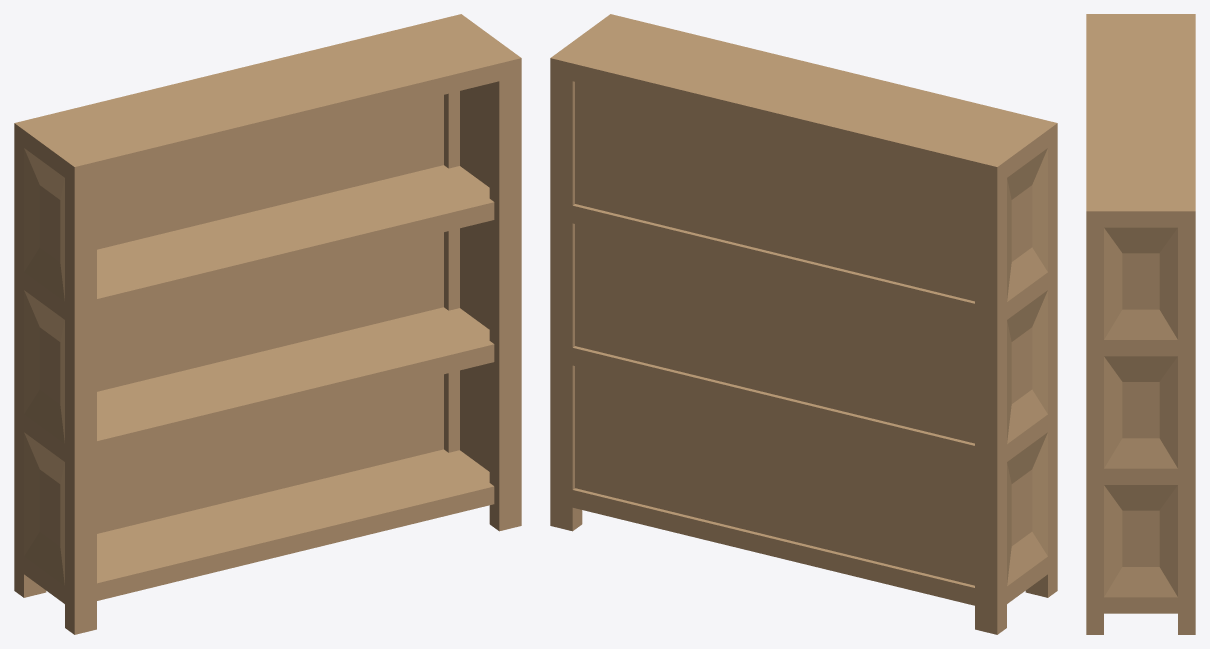
Rendered from bookcase-wide.glb.
The picture shows the model from 3 angles, left to right: view 1: azimuth 30°, elevation 25°; view 2: azimuth 150°, elevation 25°; view 3: azimuth 270°, elevation 25°; orthographic projection. The views are drawn at different scales.
Visible parts, largest first — view 1: bookcase-wide; view 2: bookcase-wide; view 3: bookcase-wide.
Part boxes in pixels (bbox=[...]): bookcase-wide: bbox=[14, 14, 521, 634]; bookcase-wide: bbox=[550, 14, 1057, 634]; bookcase-wide: bbox=[1086, 14, 1195, 634].
Bounding box in the file's own units: 1.5 × 1.5 × 0.35.
